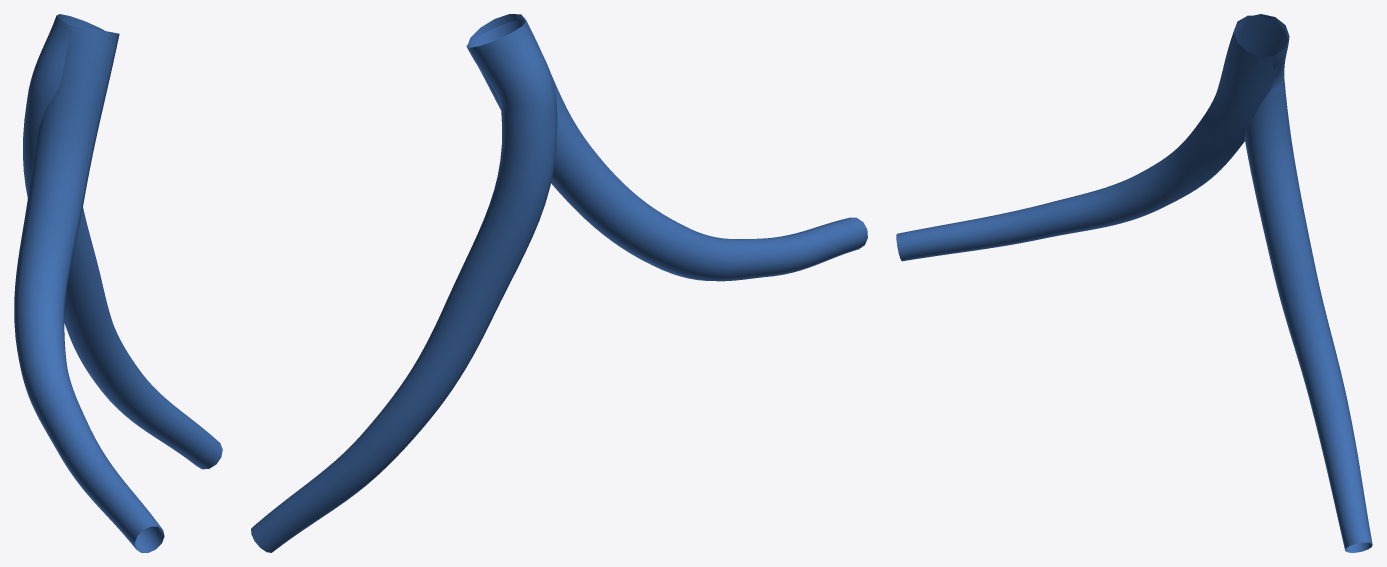
The picture shows the model from 3 angles, left to right: view 1: azimuth 30°, elevation 25°; view 2: azimuth 150°, elevation 25°; view 3: azimuth 270°, elevation 25°; orthographic projection. The views are drawn at different scales.
Visible parts, largest first — view 1: 右肺前静脉; view 2: 右肺前静脉; view 3: 右肺前静脉.
Part boxes in pixels (<box>): 右肺前静脉: <box>14,14,222,552</box>; 右肺前静脉: <box>251,14,867,552</box>; 右肺前静脉: <box>896,14,1372,552</box>.
Size of the model in its own units: 0.0361 by 0.0525 by 0.0495.
